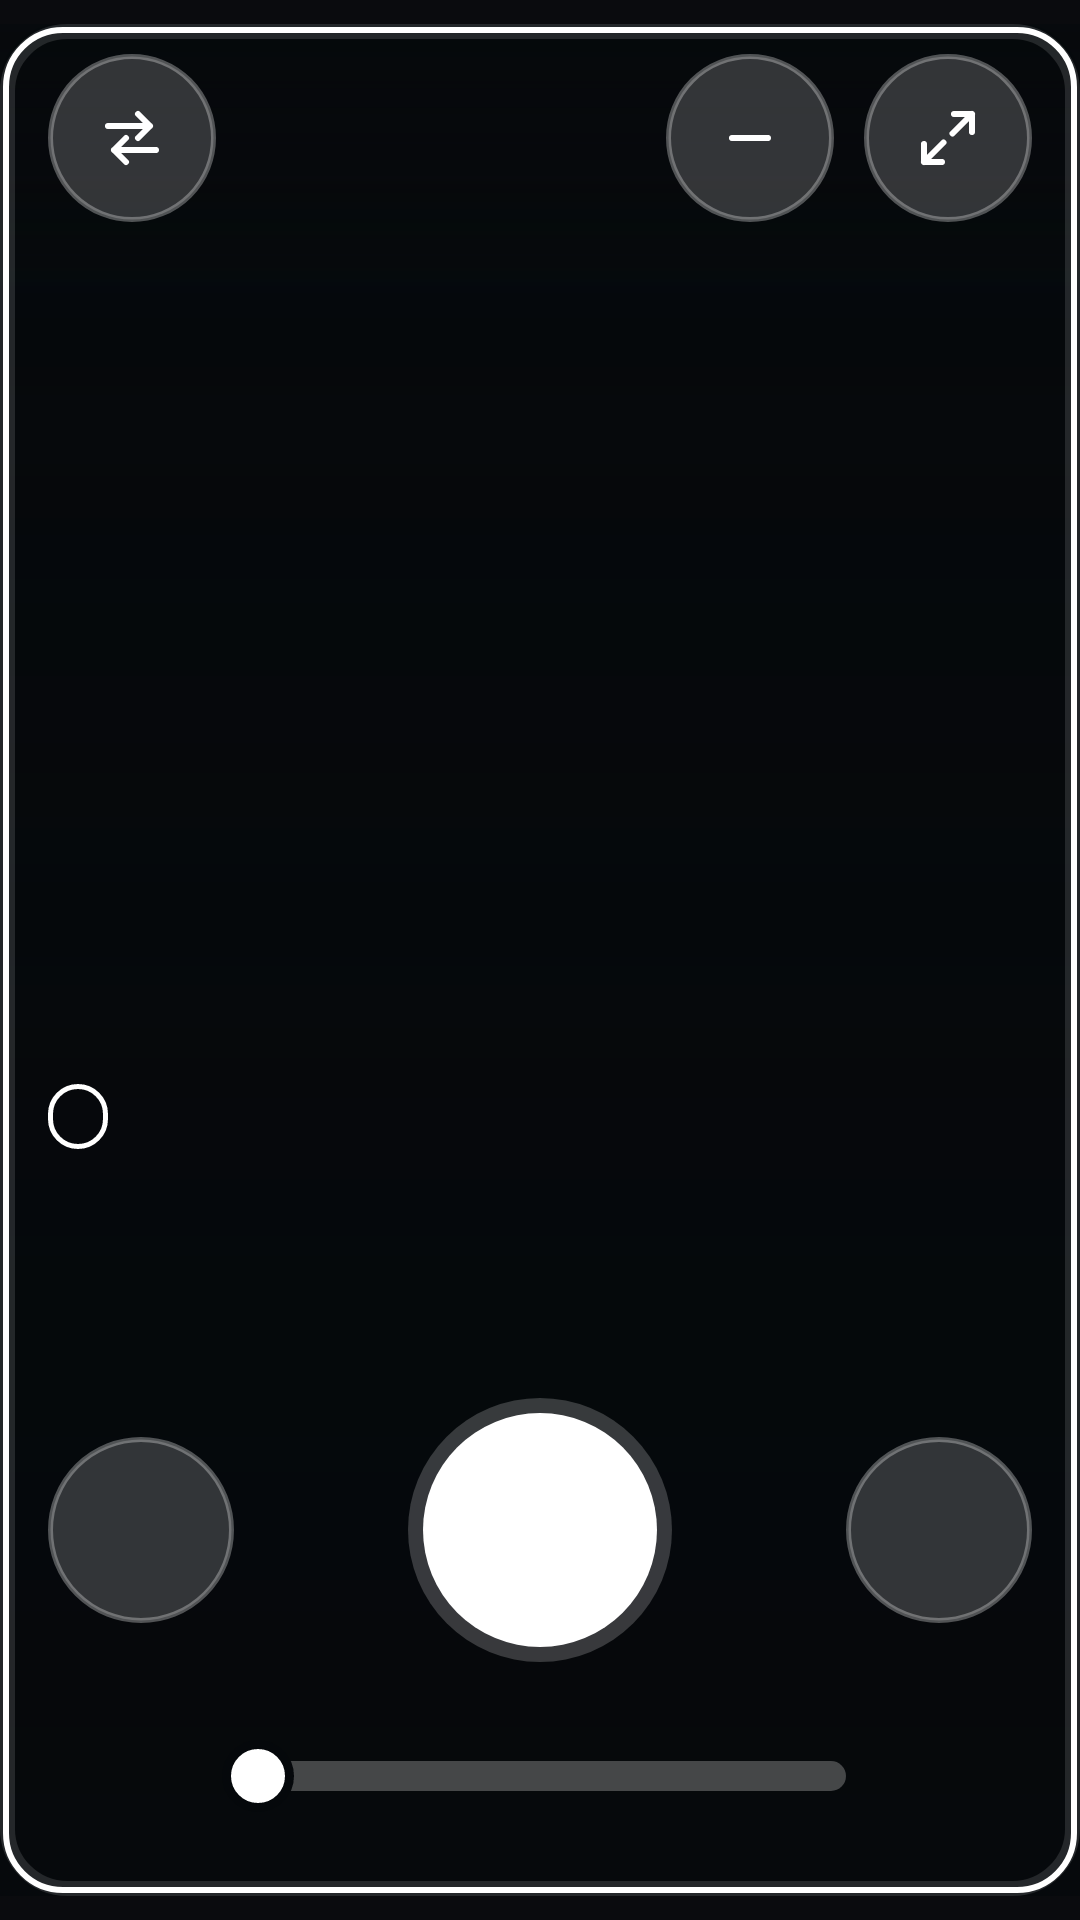

Named icons in this screenshot (1080w x 1920h) and their bounding boxes, (x1, y1, x2, y2):
Cambiar de fuente: (48, 54, 216, 222)
